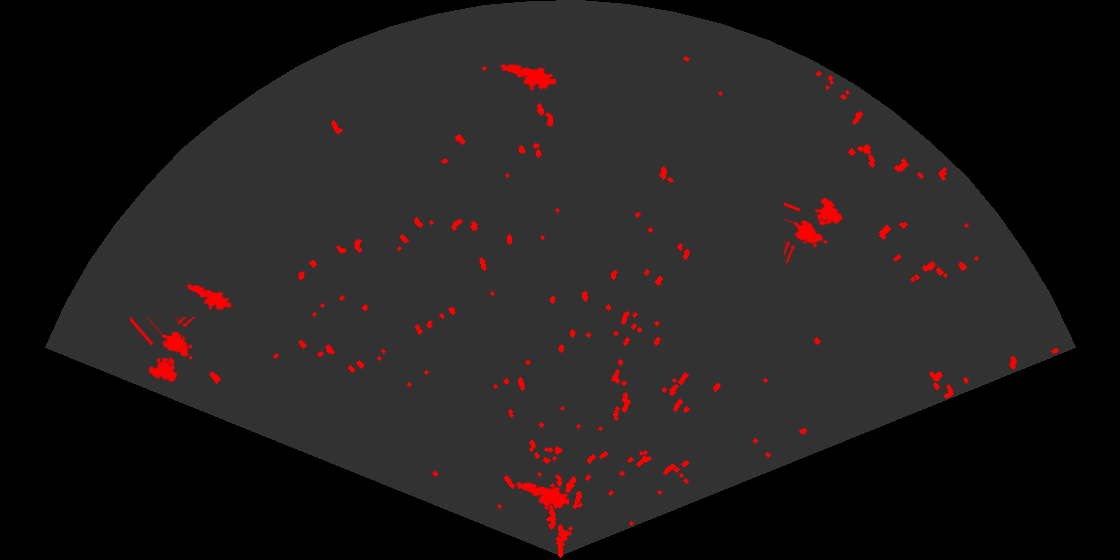cage: (130, 317, 198, 384), (784, 196, 844, 263)
frogman: (499, 63, 556, 93), (514, 481, 569, 512), (185, 282, 231, 312)
